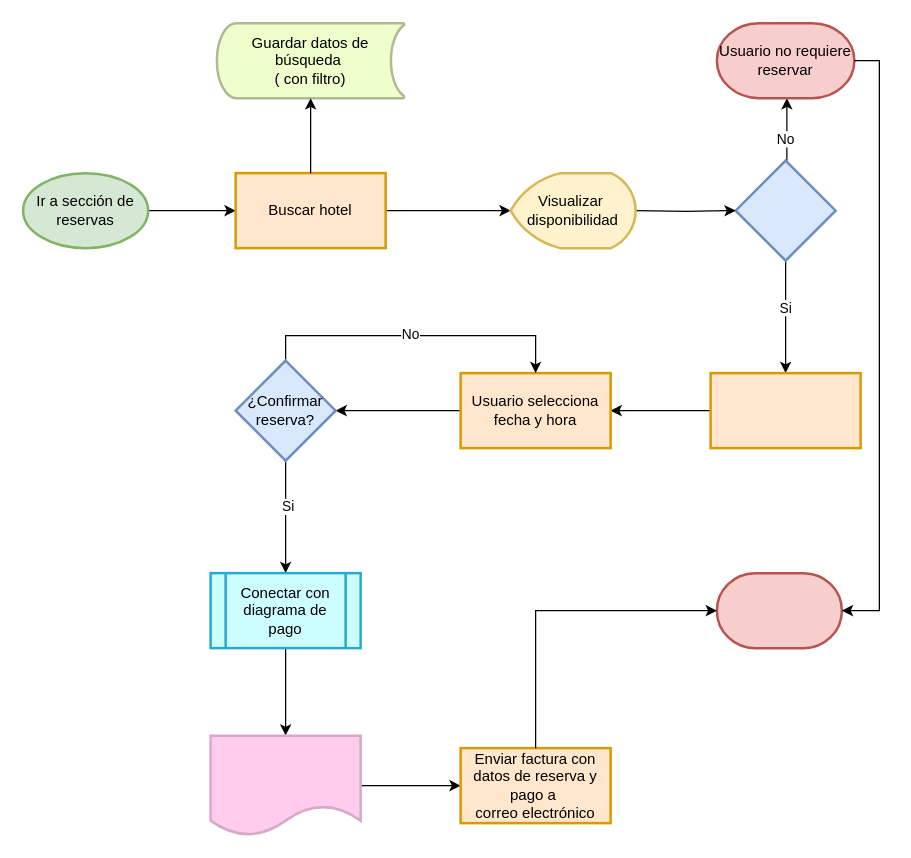
This 911x858 diagram has some shape labels left out. Here are the shapes that lost their labels. From the top down, the centre of each, then its label:
At pixel 785 210: "¿Realizar reserva?".
At pixel 785 410: "Seleccionar habitación".
At pixel 778 610: "Fin de la reserva".
At pixel 285 785: "Factura por confirmación de reserva y pago".
